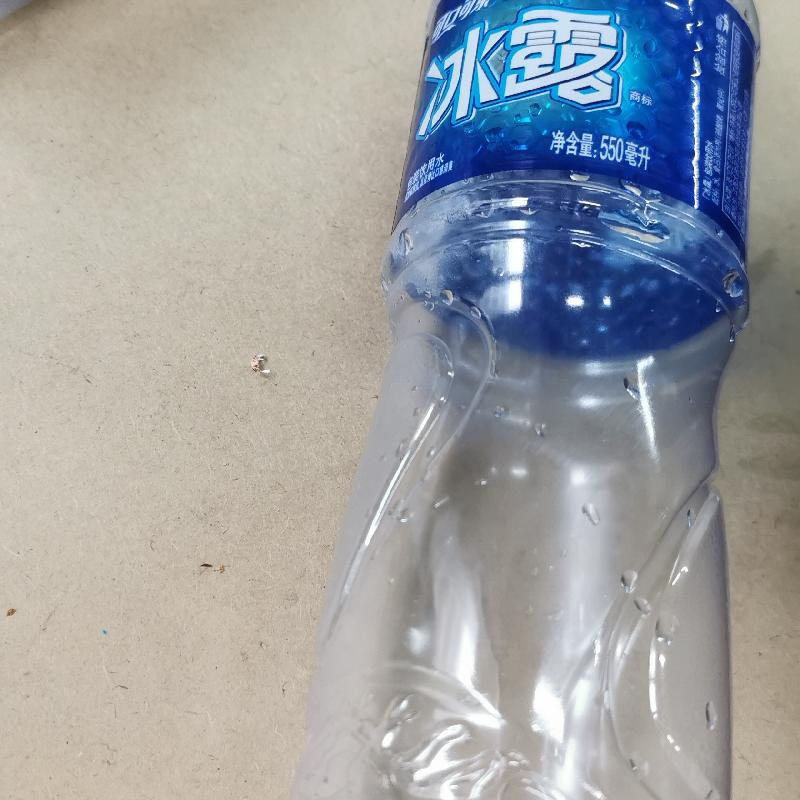bottles: (296, 0, 762, 799)
